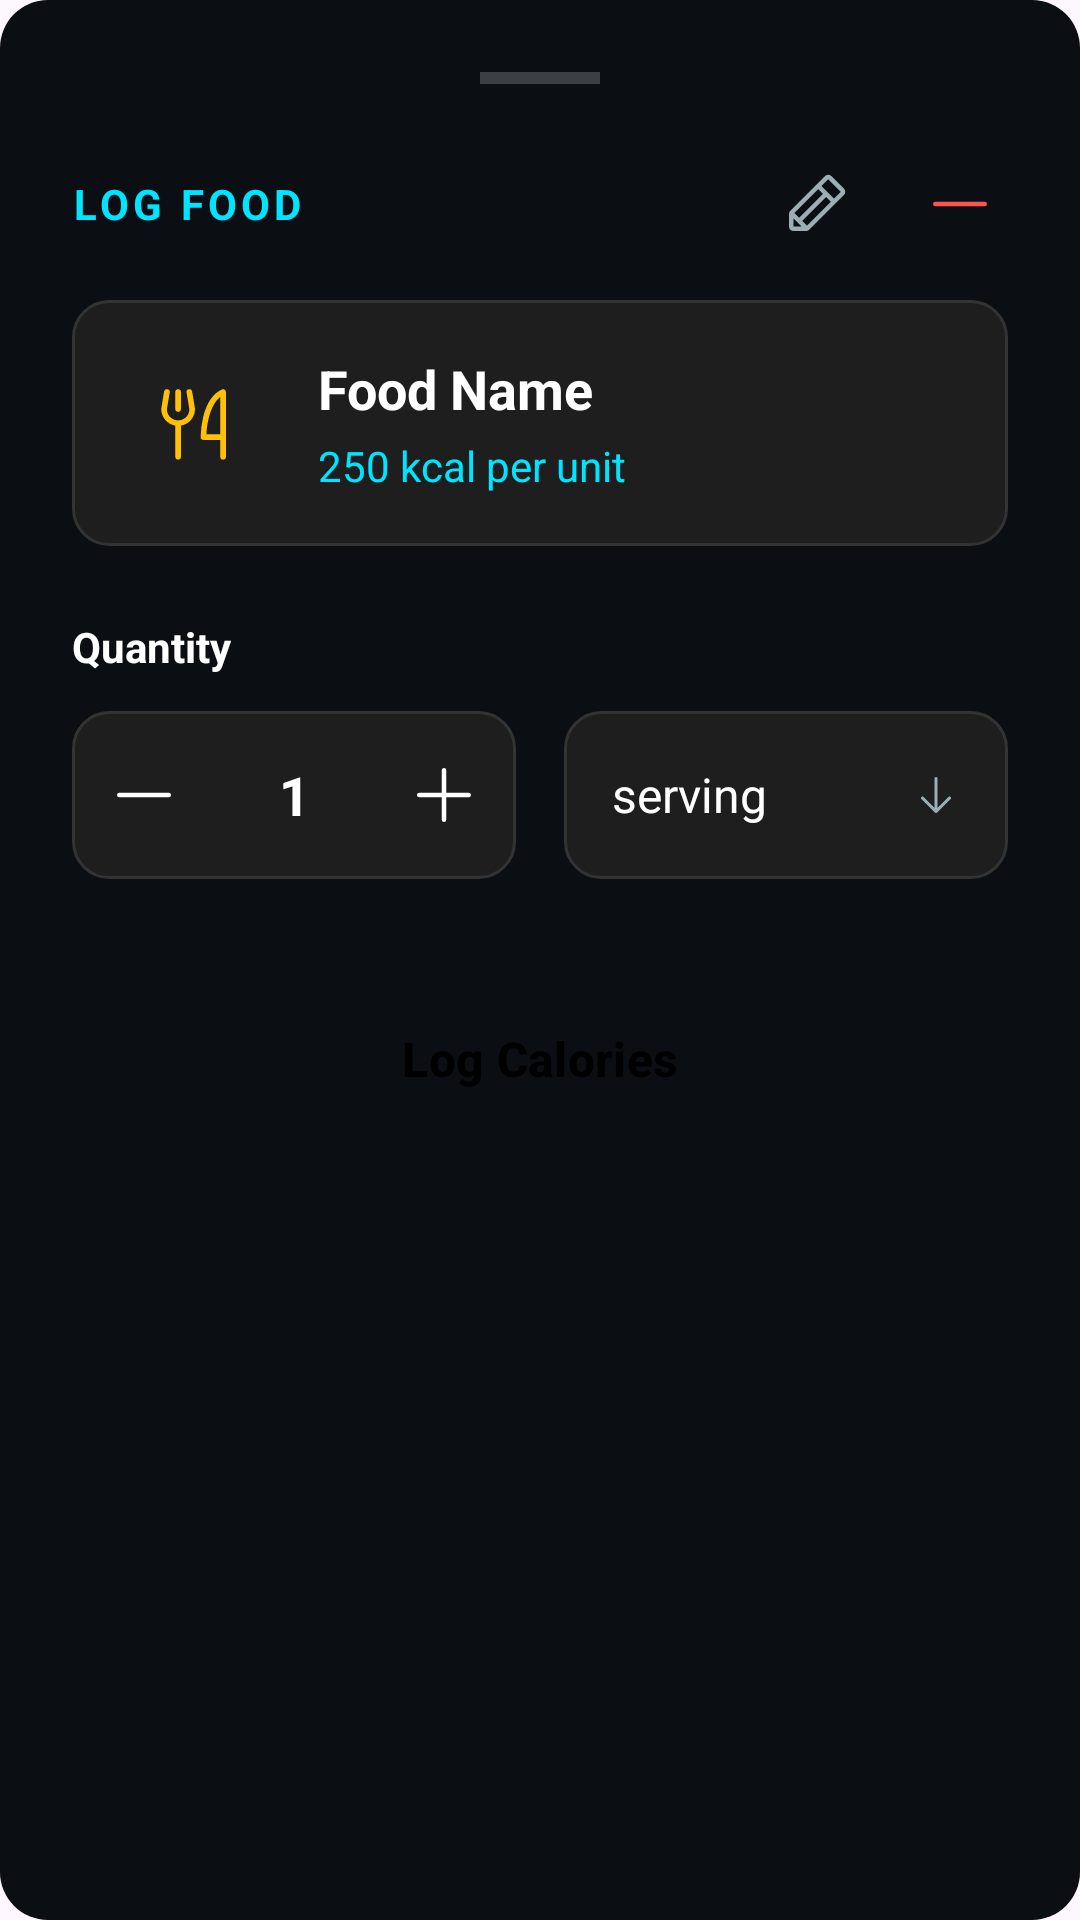

Icon bounding boxes for this 1080×1920 phone screenshot, format {"left": x1, "top": y1, "right": x2, "bottom": y2}:
Edit: {"left": 789, "top": 174, "right": 846, "bottom": 231}
Increase: {"left": 417, "top": 768, "right": 471, "bottom": 822}
